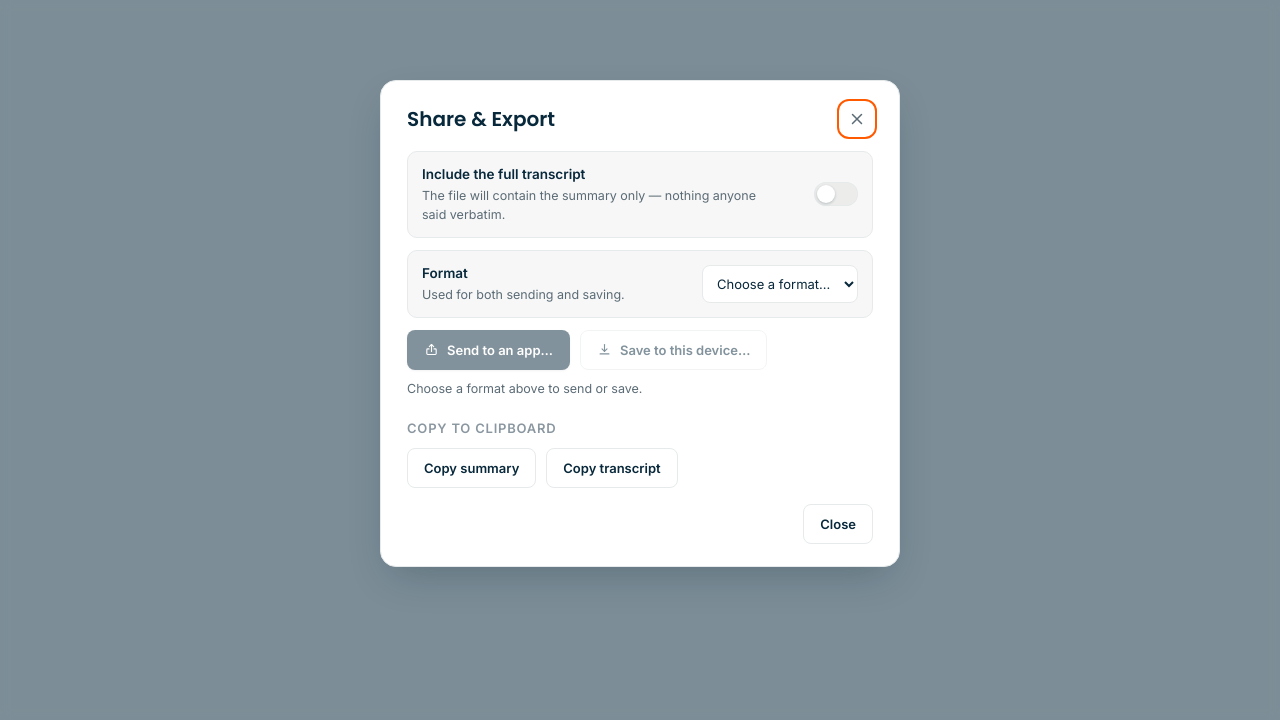
Scenario: ShareModal include-transcript flag › says what including or leaving out the transcript means
This screenshot has width=1280, height=720.
Expected: the text "summary only" is shown, [422, 188, 756, 222]
Click the switch. click: (836, 194)
box: [814, 182, 858, 206]
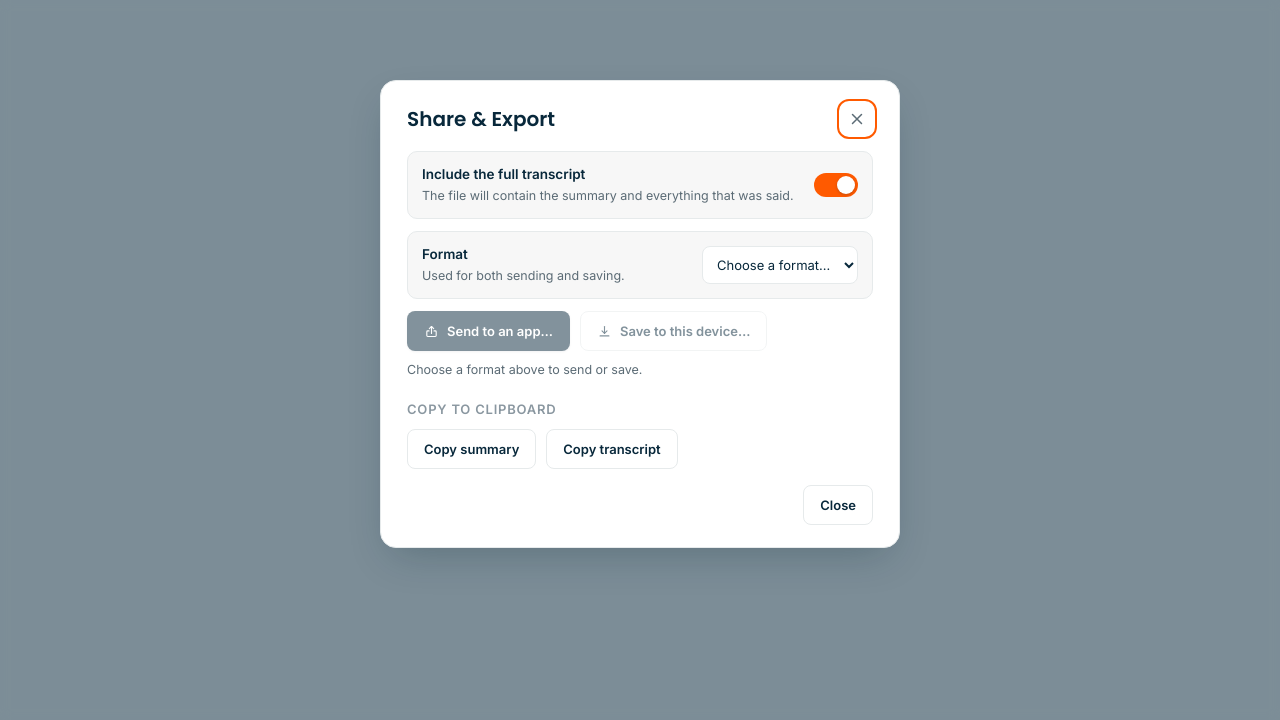
Expected: the text "everything that was said" is shown, [422, 188, 794, 203]
